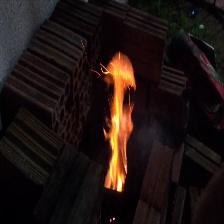fire: (96, 50, 139, 197)
